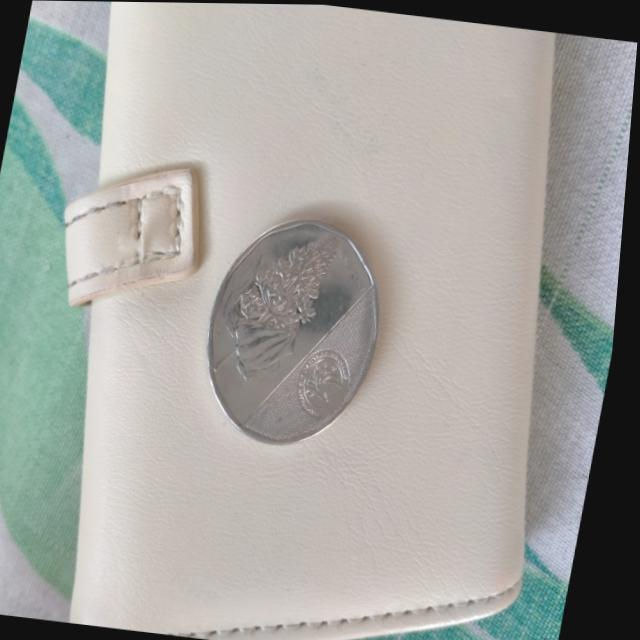10_New_Back: (209, 211, 348, 387)
